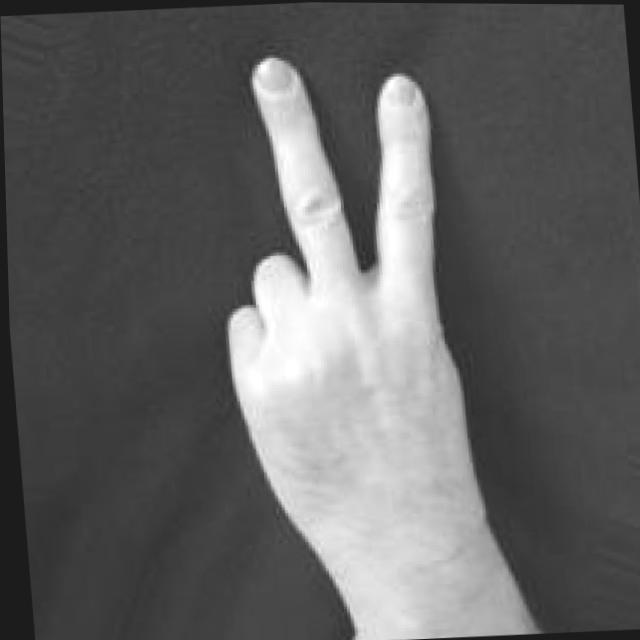V: (205, 43, 509, 596)
